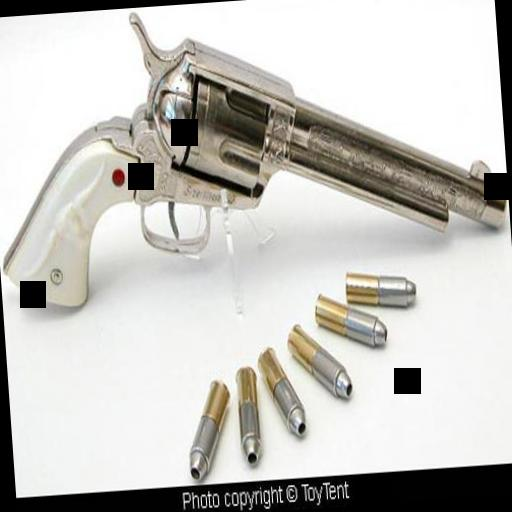Handgun: (0, 0, 510, 310)
